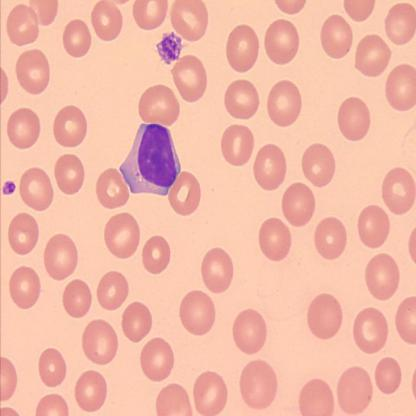Atypical lymphocyte: (117, 124, 181, 197)
